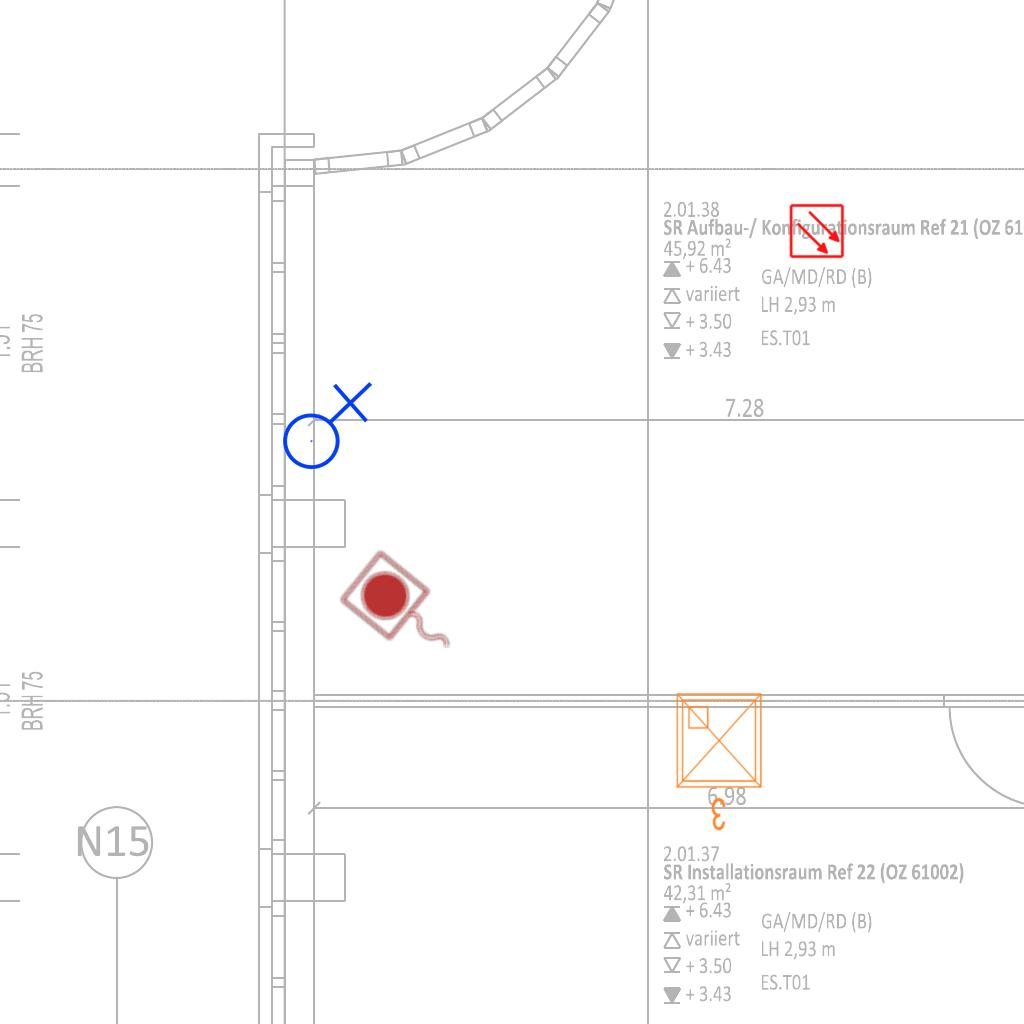Einbaudownlights_LED_Konferenzraeume: (669, 686, 773, 836)
Elektroanschluss_allgemein_230V_Geraeteanschlussdose_230V: (274, 377, 373, 471)
RMO_Rauchmelder_optischer: (789, 203, 845, 259)
Zugtaster: (333, 545, 475, 679)
